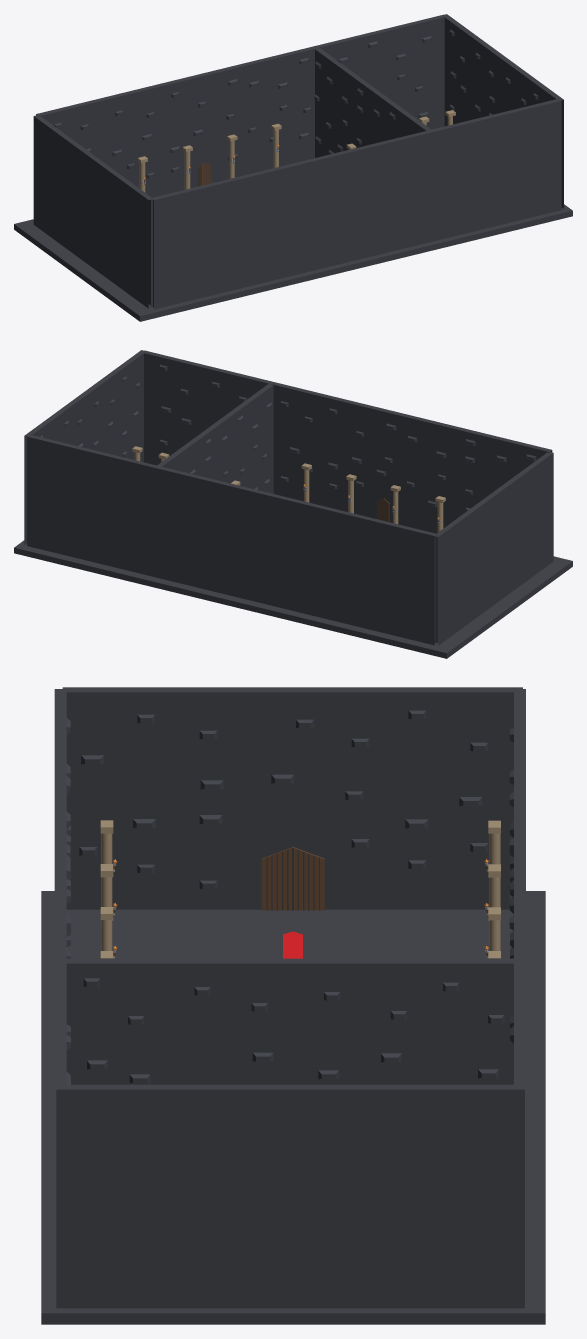
3 renders of one model, top to bottom at view 1: azimuth 30°, elevation 25°; view 2: azimuth 150°, elevation 25°; view 3: azimuth 270°, elevation 25°, orthographic. The views are drawn at different scales.
Visible parts, largest first — view 1: wall.002, wall.004, wall.001, wall.007, wall.005, wall.003, grond, wall.006; view 2: wall.001, wall.005, wall.002, wall.004, wall.007, grond, wall.003, wall.006; view 3: wall.003, wall.007, wall.006, grond, door.006, wall.002, wall.004, wall.001, wall.005.
Part boxes in pixels (box(x1,y1,x2,y2)): wall.002: box(321, 99, 561, 267); wall.004: box(151, 156, 324, 309); wall.001: box(208, 14, 444, 183); wall.007: box(33, 115, 153, 308); wall.005: box(36, 69, 219, 197); wall.003: box(442, 14, 563, 208); grond: box(14, 204, 572, 321); wall.006: box(314, 48, 430, 157); wall.001: box(27, 435, 266, 600); wall.005: box(253, 490, 437, 645); wall.002: box(144, 350, 381, 516); wall.004: box(367, 408, 552, 533); wall.007: box(434, 452, 553, 645); grond: box(14, 540, 572, 658); wall.003: box(24, 350, 145, 544); wall.006: box(157, 384, 273, 493); wall.003: box(56, 1084, 524, 1308); wall.007: box(62, 687, 522, 909); wall.006: box(66, 958, 513, 1084); grond: box(41, 891, 545, 1324); door.006: box(261, 847, 324, 910); wall.002: box(54, 864, 70, 1086); wall.004: box(54, 689, 70, 958); wall.001: box(510, 864, 525, 1086); wall.005: box(509, 689, 525, 958).
Bounding box in the file's own units: 161 × 40.83 × 81.17.
